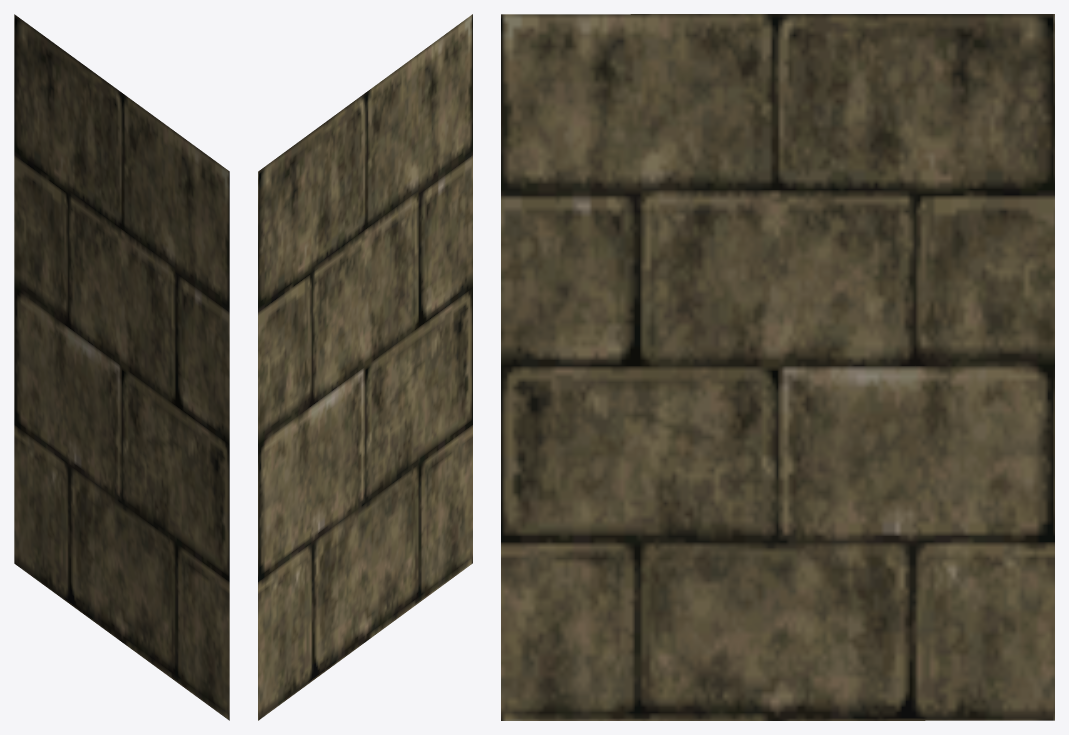
Rendered from OVERHILL_A_01_OBJECT103.fbx.
The picture shows the model from 3 angles, left to right: view 1: azimuth 30°, elevation 25°; view 2: azimuth 150°, elevation 25°; view 3: azimuth 270°, elevation 25°; orthographic projection. The views are drawn at different scales.
Parts seen in each view (by area): view 1: OVERHILL_A_01_OBJECT103; view 2: OVERHILL_A_01_OBJECT103; view 3: OVERHILL_A_01_OBJECT103.
Boxes of the visible parts, x1,y1,x2,y2 form: OVERHILL_A_01_OBJECT103: (14,14,229,720); OVERHILL_A_01_OBJECT103: (258,14,472,720); OVERHILL_A_01_OBJECT103: (501,14,1054,720).
Bounding box in the file's own units: 19.04 × 28900 × 20527.
Materials: 1 (1 with a texture image).
